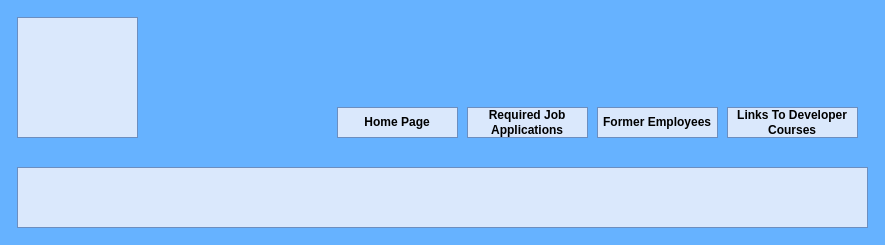
Image size: 885x245. Some labels were removed from this diagram. The box of each missing label's shape, as (x1, y1, x2, y2) in pixels:
Former Employees:: (16, 166, 868, 228)
Logo: (16, 16, 138, 138)
